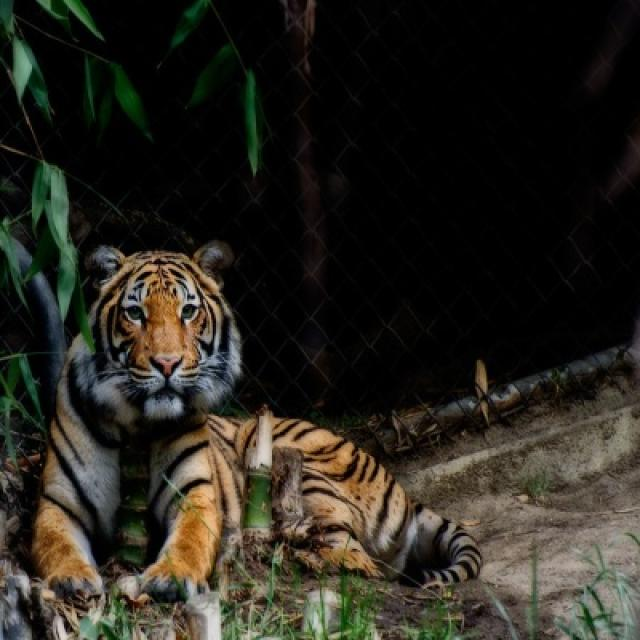Tiger: (31, 242, 485, 600)
